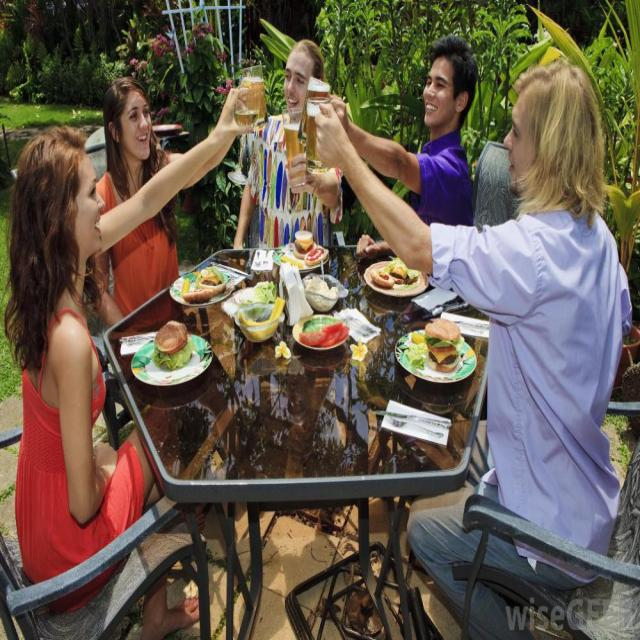body: (303, 55, 637, 639), (11, 68, 258, 639), (90, 72, 260, 330), (321, 31, 479, 243), (231, 37, 344, 252)
